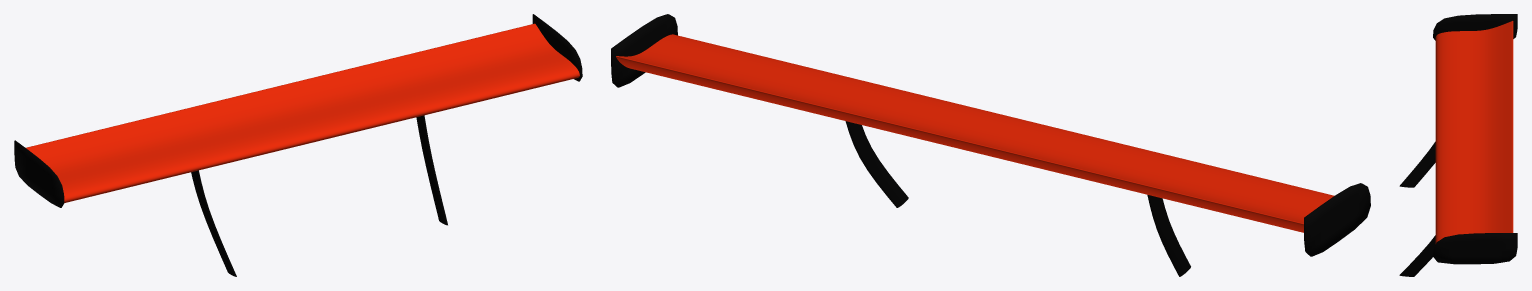
3 views of the same model, side by side, from view 1: azimuth 30°, elevation 25°; view 2: azimuth 150°, elevation 25°; view 3: azimuth 270°, elevation 25° (orthographic). The views are drawn at different scales.
Visible parts, largest first — view 1: RW2; view 2: RW2; view 3: RW2.
Part boxes in pixels (x1,y1,x2,y2): RW2: (14, 14, 582, 276); RW2: (611, 14, 1370, 276); RW2: (1399, 14, 1517, 276).
Size of the model in its own units: 2.42 by 0.5594 by 0.5536.
